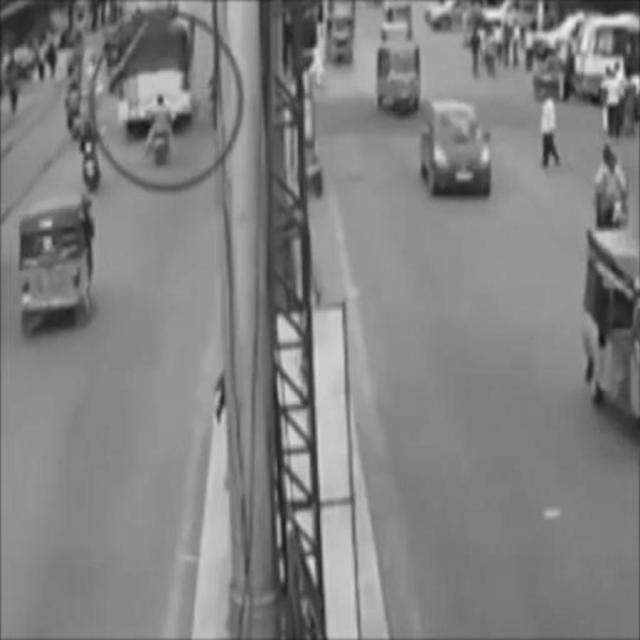person: (538, 88, 562, 171)
vehicle: (18, 199, 91, 330), (124, 11, 196, 139), (424, 102, 492, 195), (593, 143, 630, 234), (377, 44, 423, 115), (145, 95, 175, 168), (78, 120, 105, 190)
